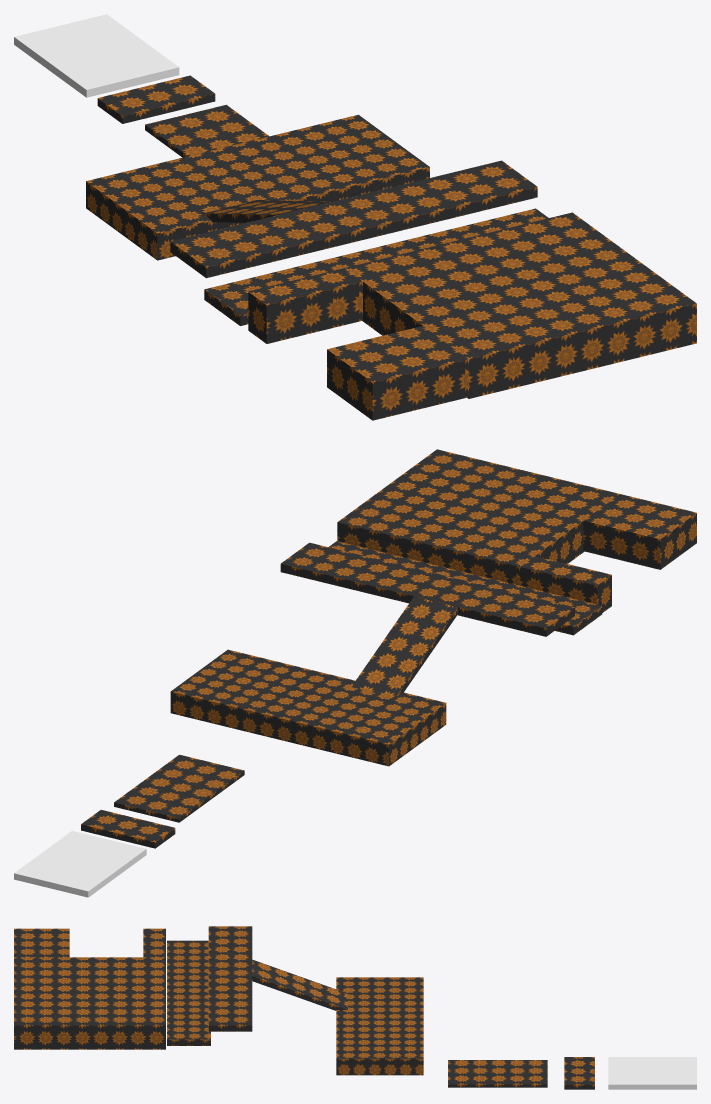
Rendered from Floors.fbx.
The picture shows the model from 3 angles, top to bottom: view 1: azimuth 30°, elevation 25°; view 2: azimuth 150°, elevation 25°; view 3: azimuth 270°, elevation 25°; orthographic projection. The views are drawn at different scales.
Parts seen in each view (by area): view 1: Cube__4_, Cube__3_, Cube__7_, Cube__12_, Cube__1_, Cube__11_, Cube__8_, Cube__6_, Cube__2_, Cube__5_; view 2: Cube__4_, Cube__3_, Cube__7_, Cube__12_, Cube__5_, Cube__1_, Cube__6_, Cube__11_, Cube__8_, Cube__2_; view 3: Cube__4_, Cube__3_, Cube__7_, Cube__8_, Cube__1_, Cube__6_, Cube__5_, Cube__12_, Cube__2_, Cube__11_.
Part boxes in pixels (box(x1,y1,x2,y2)): Cube__4_: box(345, 212, 696, 398); Cube__3_: box(86, 114, 429, 260); Cube__7_: box(170, 160, 537, 278); Cube__12_: box(327, 326, 468, 420); Cube__1_: box(14, 14, 179, 97); Cube__11_: box(248, 268, 362, 343); Cube__8_: box(204, 208, 548, 325); Cube__6_: box(145, 104, 269, 157); Cube__2_: box(97, 75, 215, 123); Cube__5_: box(202, 200, 332, 222); Cube__4_: box(337, 449, 619, 585); Cube__3_: box(170, 649, 446, 766); Cube__7_: box(280, 542, 574, 636); Cube__12_: box(583, 494, 696, 569); Cube__5_: box(351, 596, 457, 697); Cube__1_: box(14, 831, 146, 897); Cube__6_: box(114, 754, 244, 822); Cube__11_: box(520, 556, 611, 612); Cube__8_: box(328, 541, 602, 635); Cube__2_: box(81, 809, 175, 848); Cube__4_: box(14, 957, 165, 1049); Cube__3_: box(336, 977, 423, 1075); Cube__7_: box(208, 926, 252, 1031); Cube__8_: box(167, 940, 210, 1045); Cube__1_: box(608, 1057, 696, 1089); Cube__6_: box(448, 1060, 547, 1087); Cube__5_: box(252, 959, 347, 1010); Cube__12_: box(14, 928, 69, 957); Cube__2_: box(564, 1057, 594, 1089); Cube__11_: box(143, 928, 165, 957).
Bounding box in the file's own units: 1992 × 690 × 5819.
